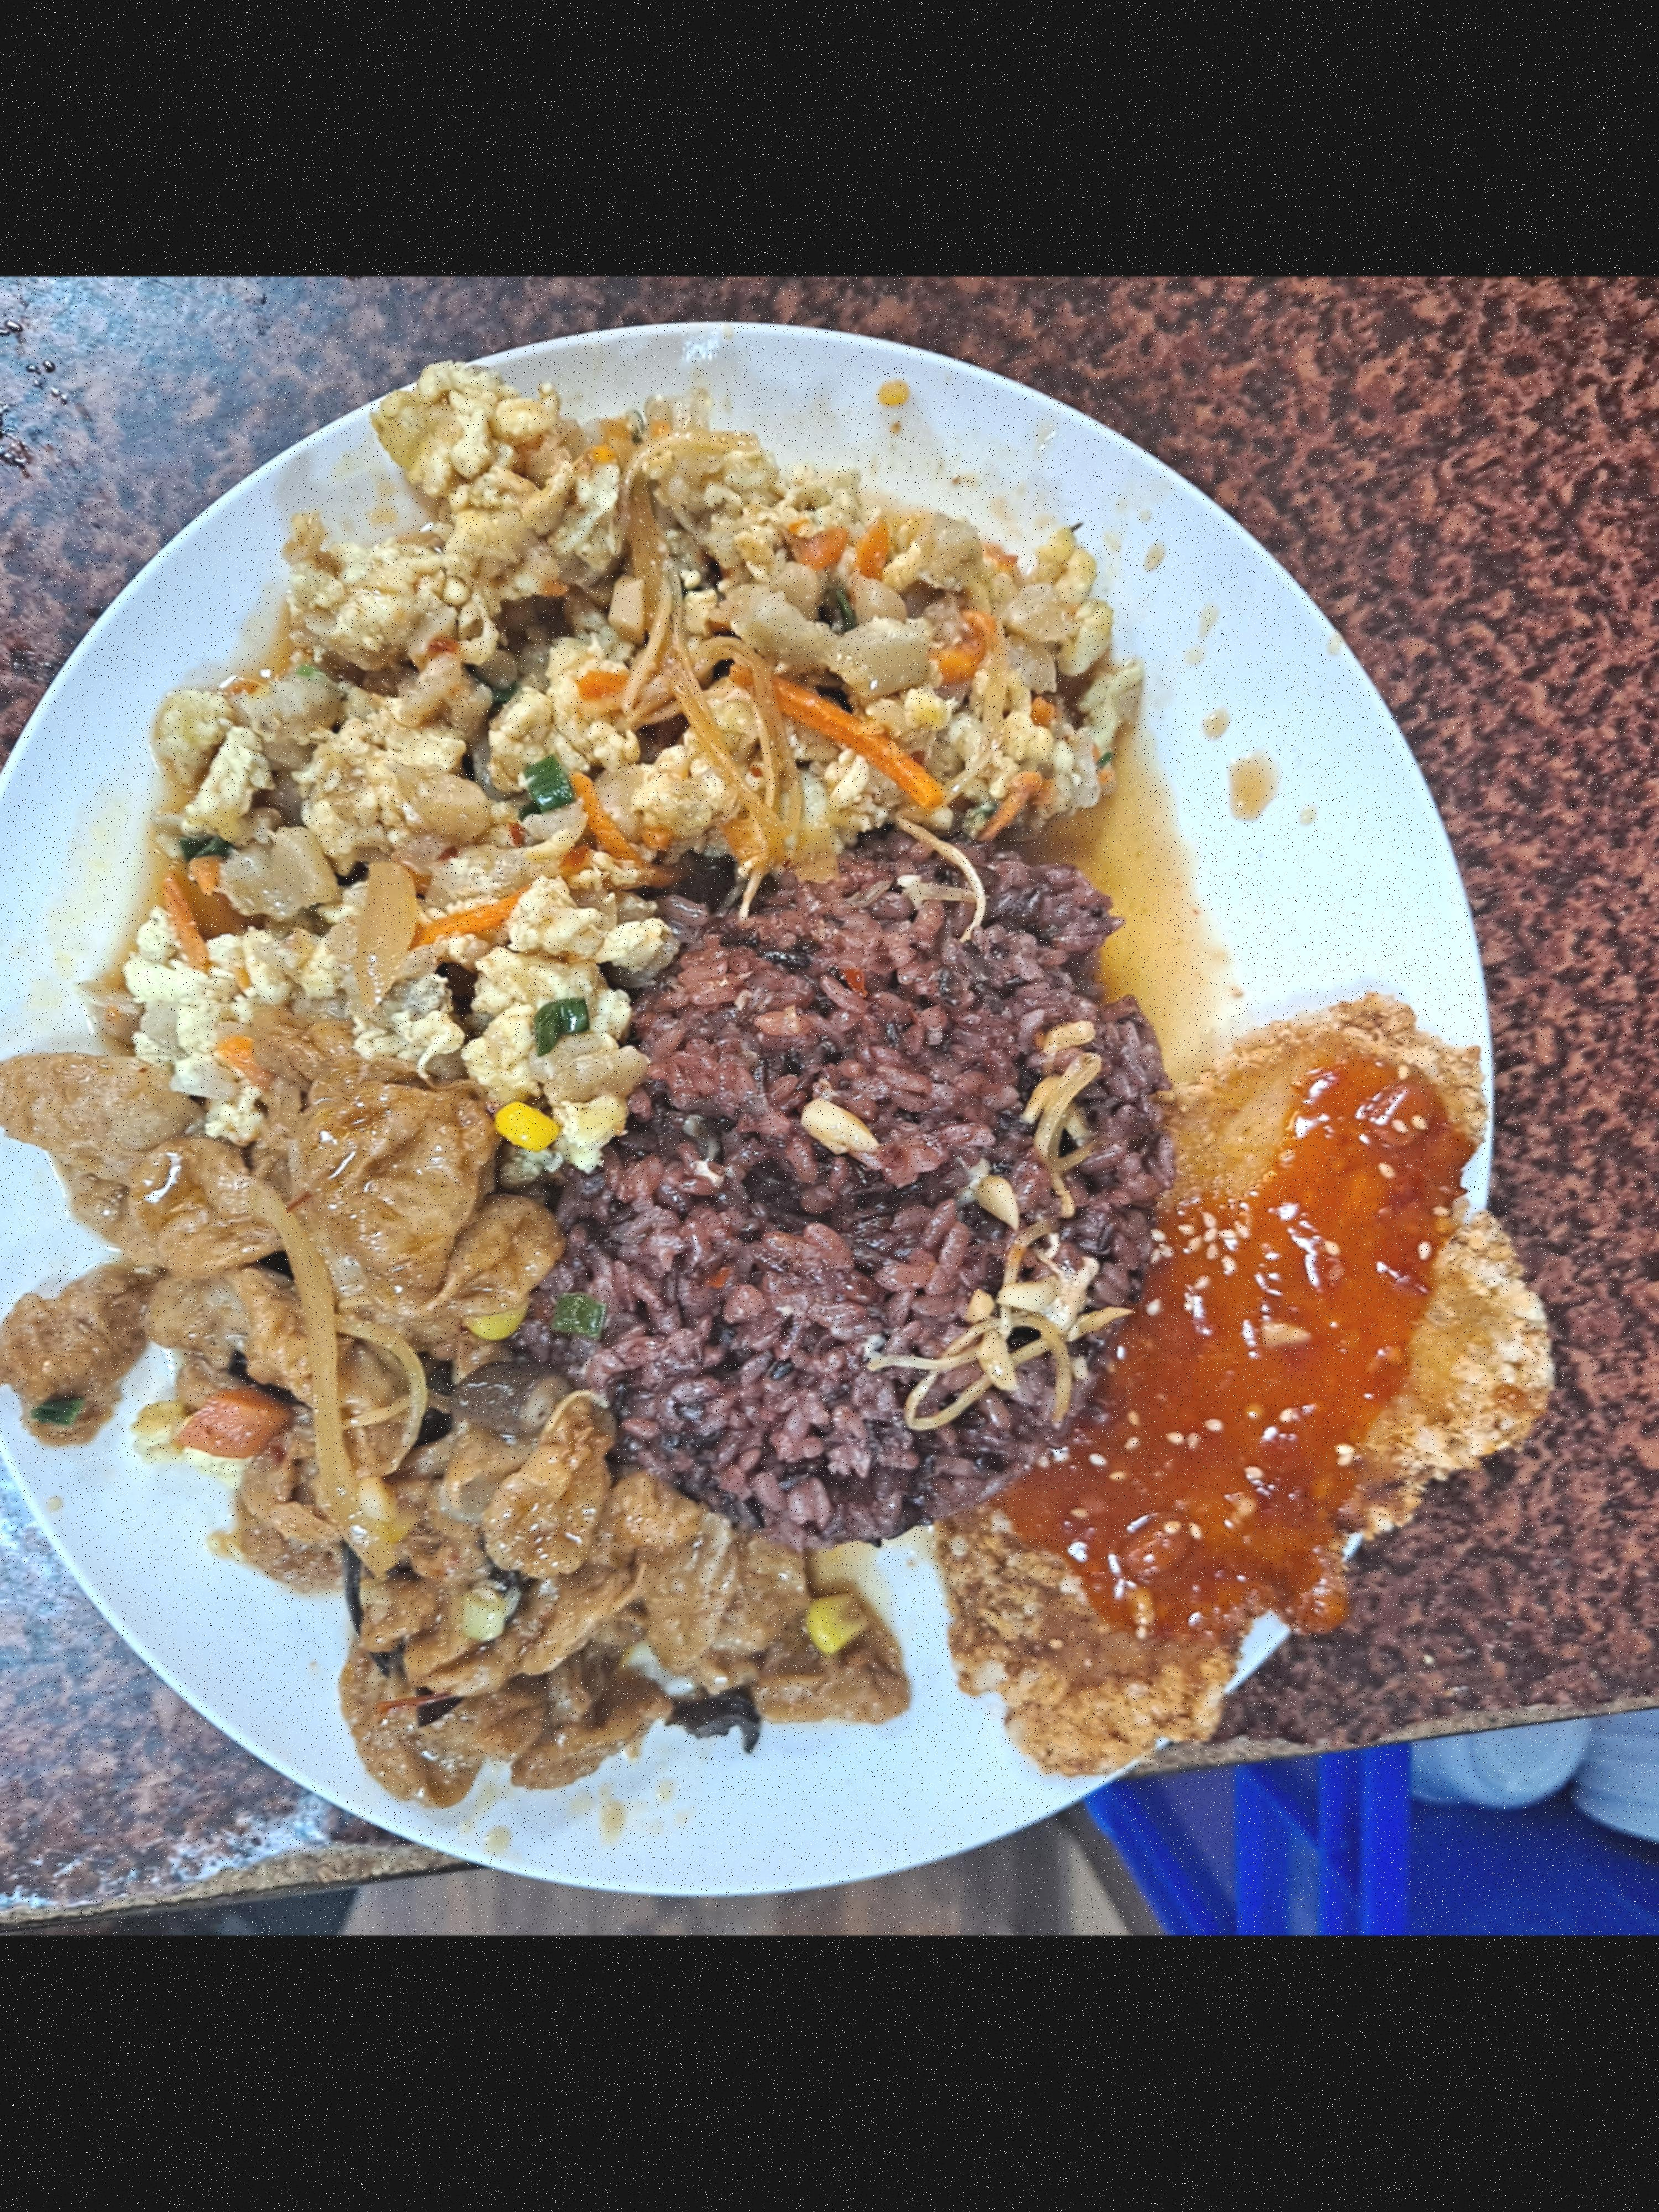plate: (1086, 1103, 1659, 1916)
purple rice: (1256, 1393, 1507, 1714)
side dish: (1086, 1158, 1523, 1416), (1086, 1465, 1279, 1869)
sweet and spicy chicken steak: (1434, 1460, 1659, 1834)
